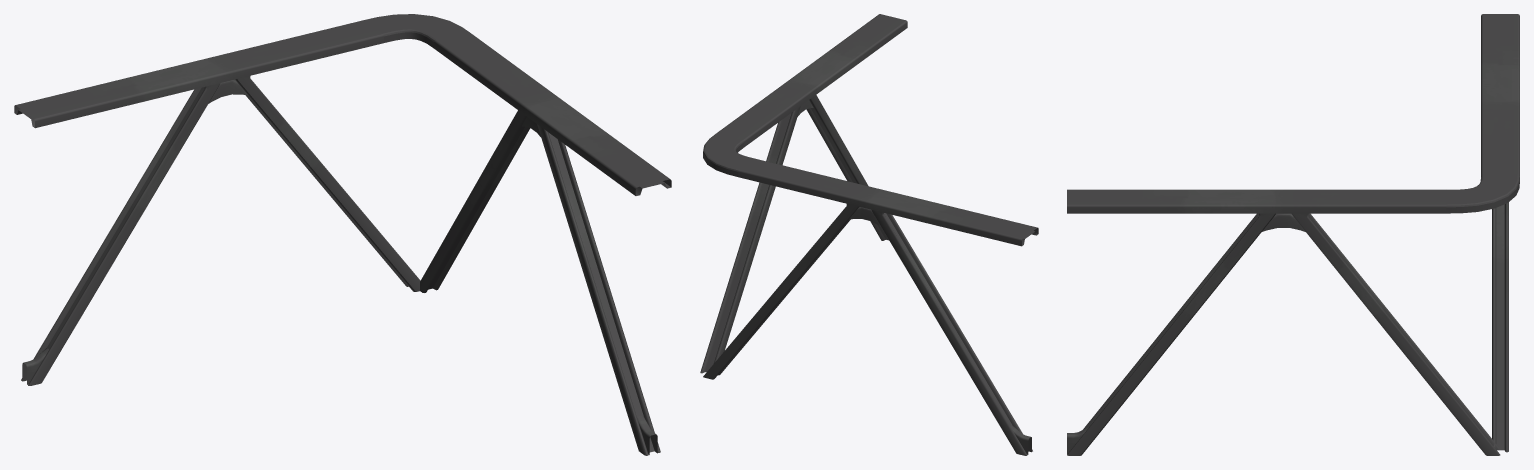
Rendered from EN_W_fenceCorner.fbx.
The picture shows the model from 3 angles, left to right: view 1: azimuth 30°, elevation 25°; view 2: azimuth 150°, elevation 25°; view 3: azimuth 270°, elevation 25°; orthographic projection. The views are drawn at different scales.
Visible parts, largest first — view 1: EN_W_fenceCorner; view 2: EN_W_fenceCorner; view 3: EN_W_fenceCorner.
Boxes of the visible parts, bbox=[...] form: EN_W_fenceCorner: bbox=[14, 14, 671, 455]; EN_W_fenceCorner: bbox=[700, 14, 1038, 455]; EN_W_fenceCorner: bbox=[1067, 14, 1519, 455].
Bounding box in the file's own units: 209 × 130 × 209.
